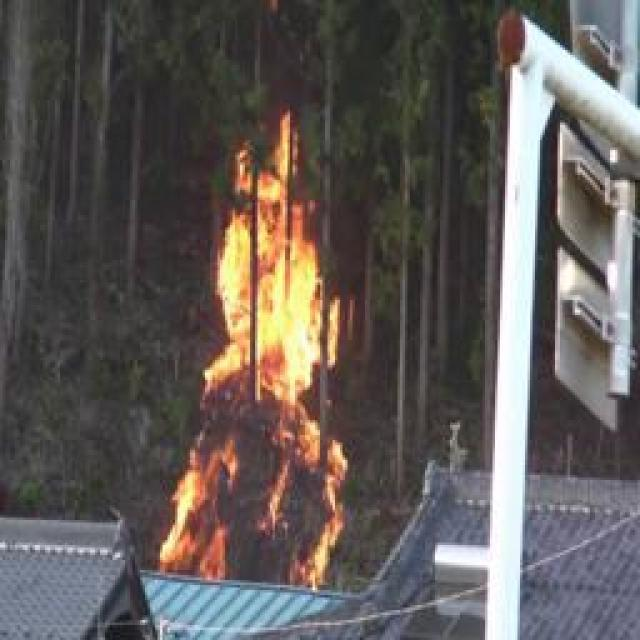Fire: (161, 113, 342, 584)
